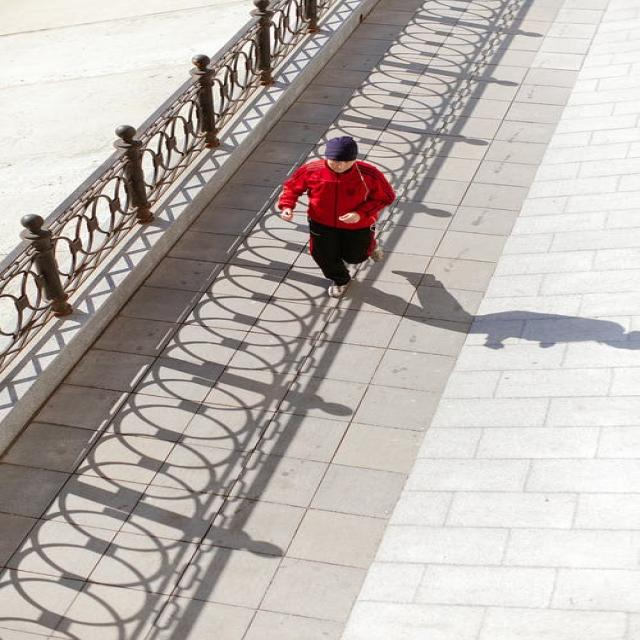running: (277, 134, 401, 300)
